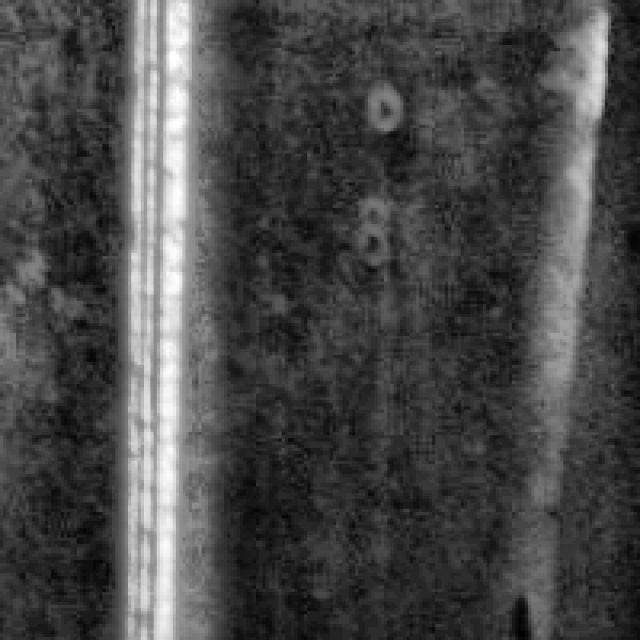Inclusion: (99, 0, 195, 637), (554, 7, 608, 292)
